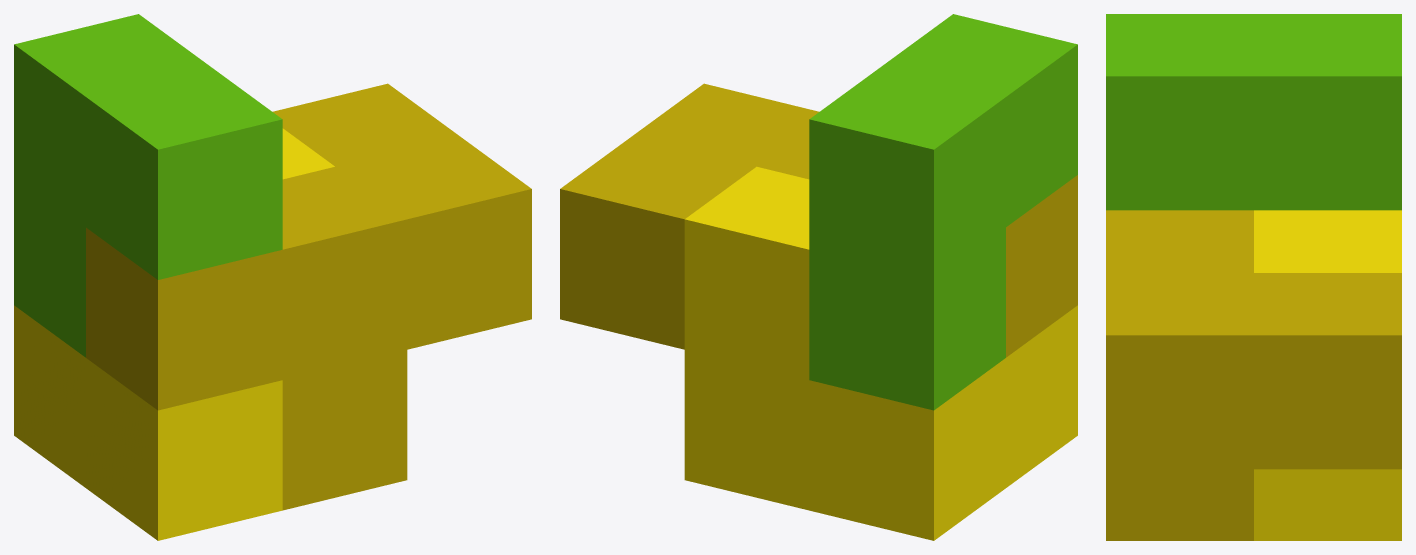
3 views of the same model, side by side, from view 1: azimuth 30°, elevation 25°; view 2: azimuth 150°, elevation 25°; view 3: azimuth 270°, elevation 25° (orthographic). The views are drawn at different scales.
Visible parts, largest first — view 1: mergedBlocks(Clone); view 2: mergedBlocks(Clone); view 3: mergedBlocks(Clone).
Part boxes in pixels (left/top/right/bottom): mergedBlocks(Clone): left=14, top=14, right=531, bottom=540; mergedBlocks(Clone): left=560, top=14, right=1077, bottom=540; mergedBlocks(Clone): left=1106, top=14, right=1401, bottom=540.
Bounding box in the file's own units: 3 × 3 × 2.
Materials: 3 (3 with a texture image).
